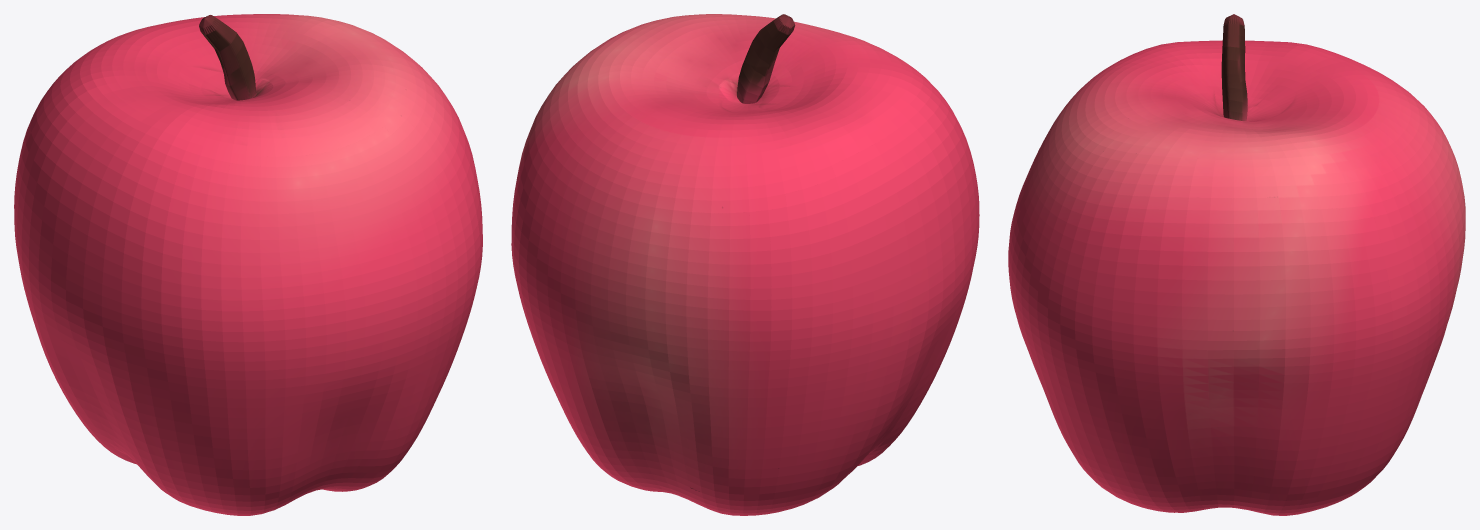
File: Apple3.gltf
3 views of the same model, side by side, from view 1: azimuth 30°, elevation 25°; view 2: azimuth 150°, elevation 25°; view 3: azimuth 270°, elevation 25° (orthographic). The views are drawn at different scales.
Parts seen in each view (by area): view 1: Cylinder; view 2: Cylinder; view 3: Cylinder.
Boxes of the visible parts, box(x1,y1,x2,y2) form: Cylinder: box(14, 14, 482, 515); Cylinder: box(511, 14, 979, 515); Cylinder: box(1008, 14, 1465, 515).
Bounding box in the file's own units: 1.95 × 2.22 × 2.05.
1 material, 1 textured.
